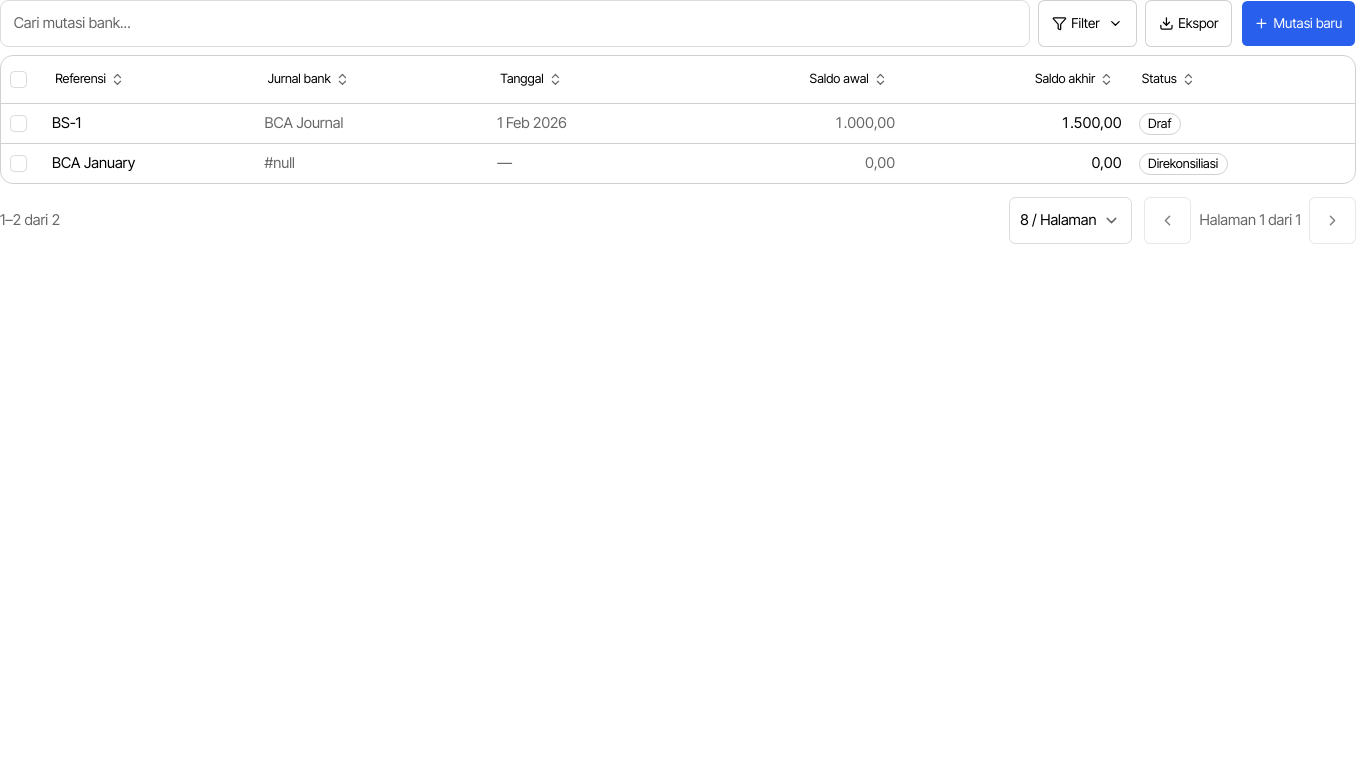
BankStatementsSection branches › keeps save disabled without a journal and cancels cleanly
Expected: the link "BCA January" is shown, [52,154,135,172]
Click the button "Mutasi baru".
click(1298, 23)  # box [1241,0,1356,47]
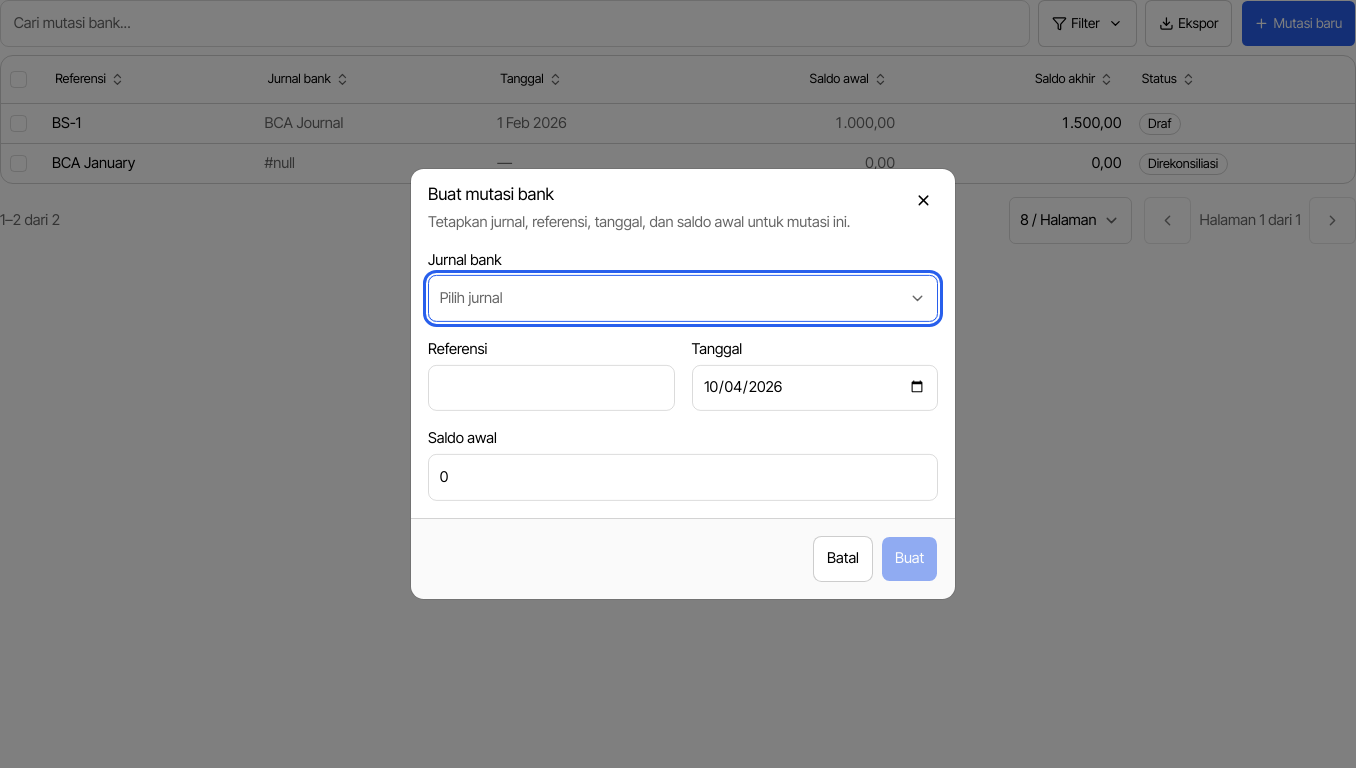
Result: the heading "Buat mutasi bank" is shown at [428,184,554,204]
Result: the button "Buat" is disabled at [881,535,938,582]
Click the button "Batal".
click(843, 559)  # box [813,535,873,582]
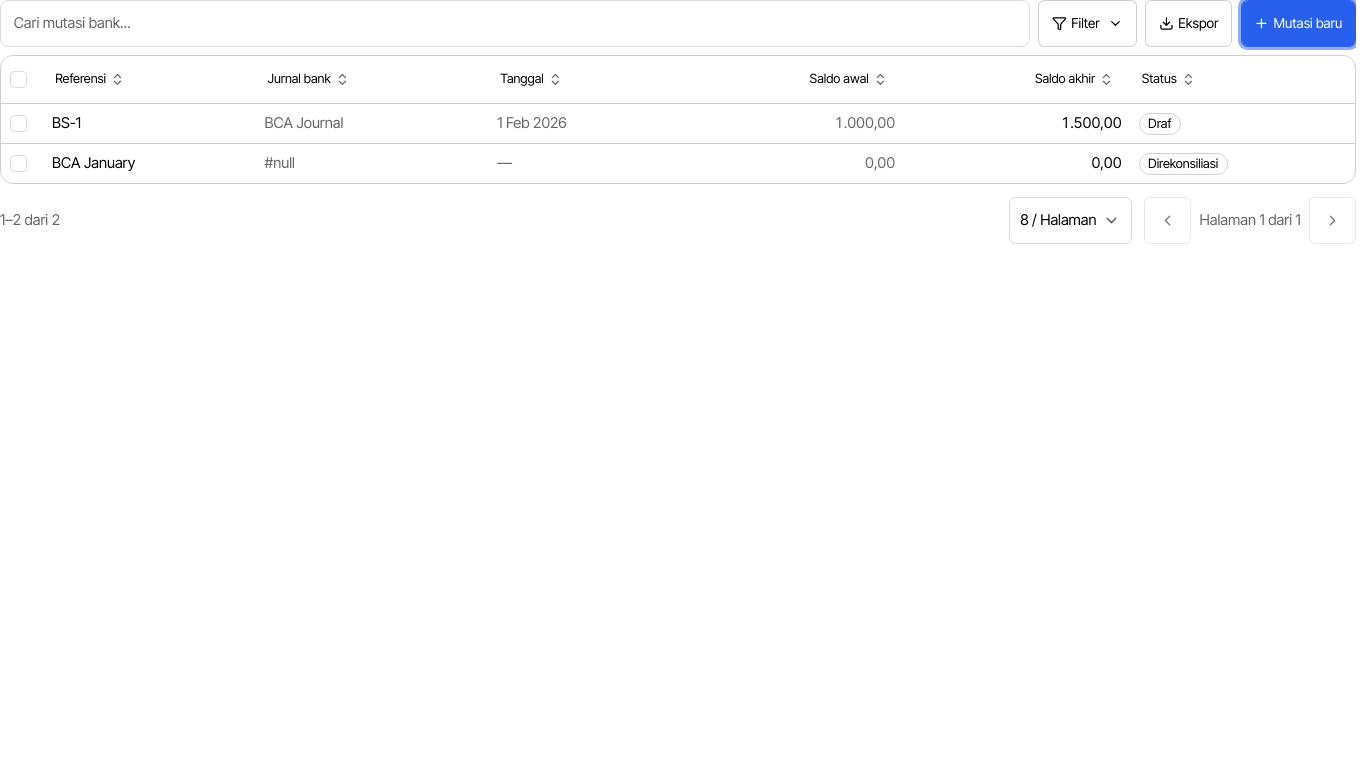
Result: the heading "Buat mutasi bank" is gone
